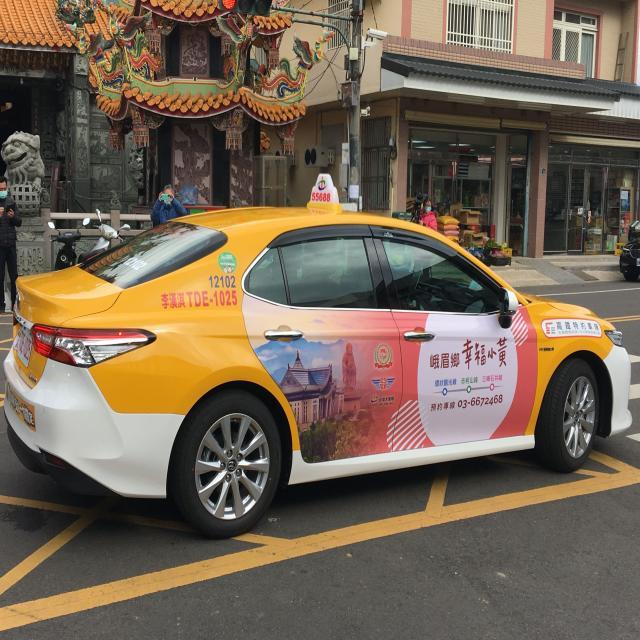Taxi: (4, 203, 632, 537)
